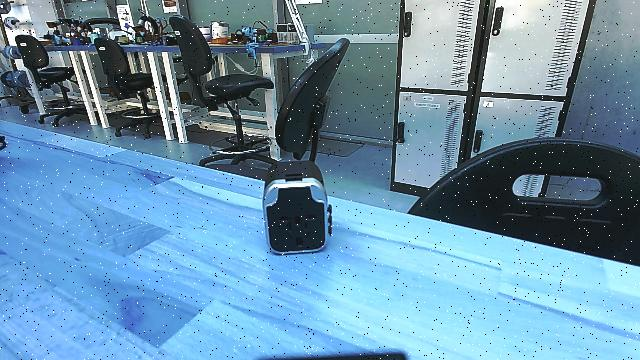adapter: (258, 157, 338, 265)
